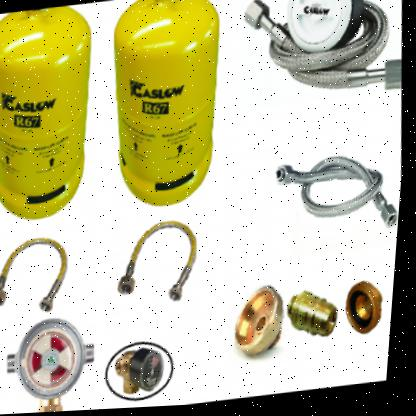gas-tank: (85, 0, 260, 226), (0, 1, 116, 226)
